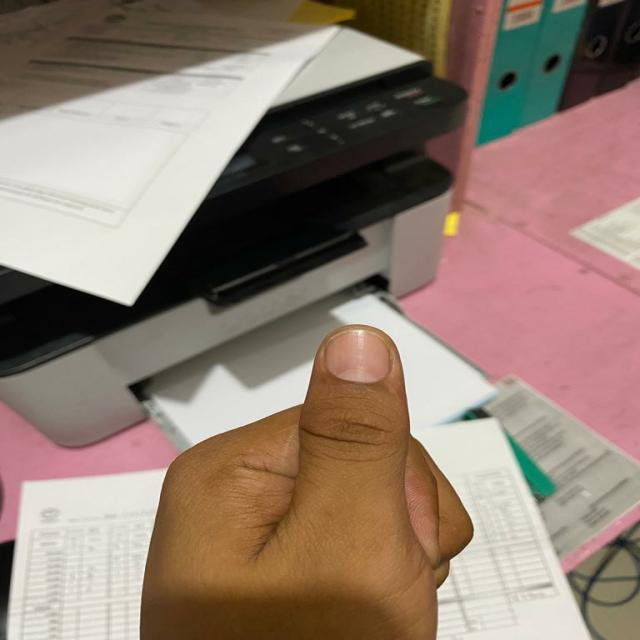sehat: (326, 332, 390, 383)
